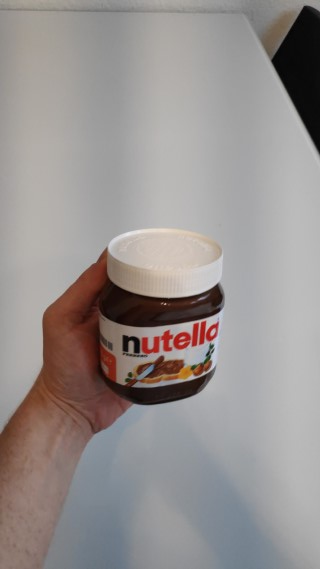nutella: (96, 225, 227, 407)
